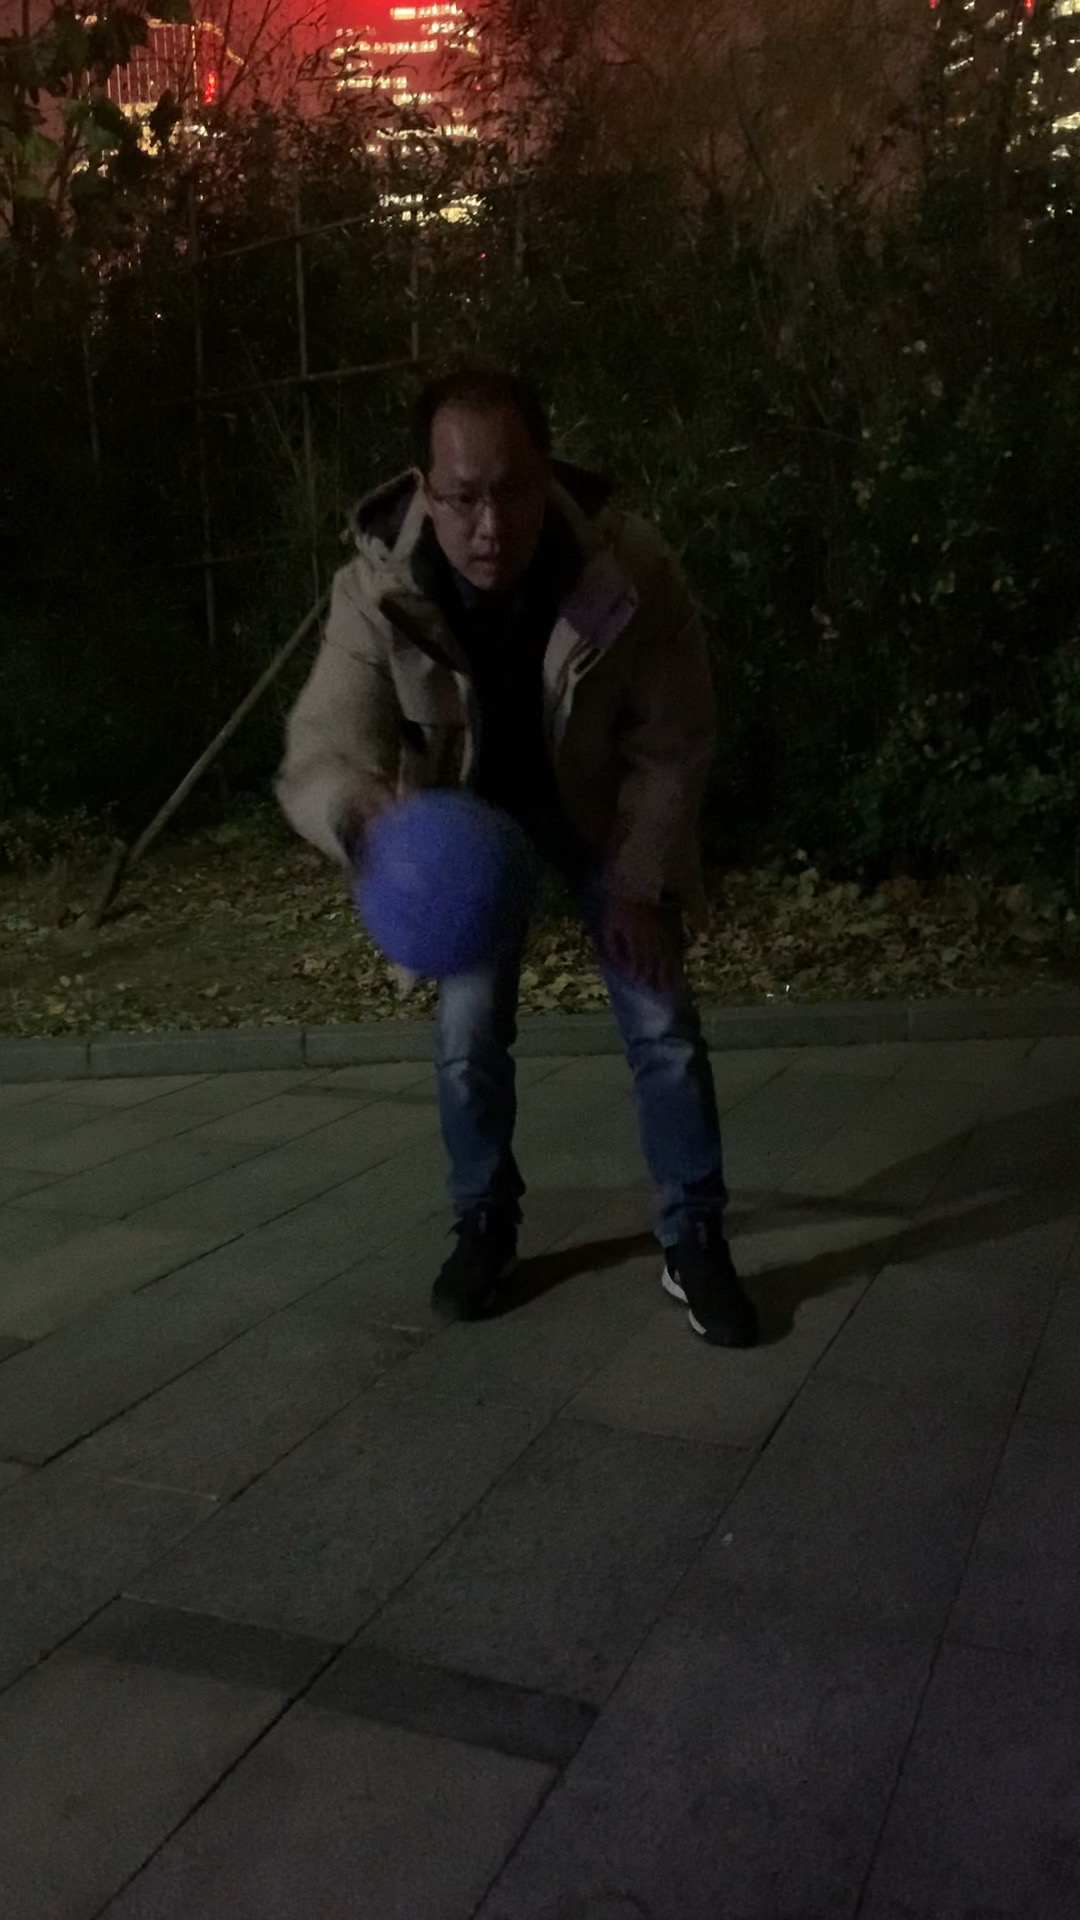ball: (344, 790, 526, 980)
